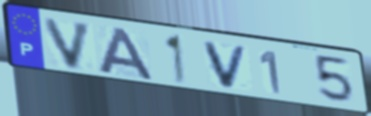1: (164, 32, 188, 87), (258, 50, 283, 96)
5: (311, 54, 357, 106)
A: (97, 25, 157, 82)
V: (41, 16, 96, 72), (201, 40, 251, 91)
